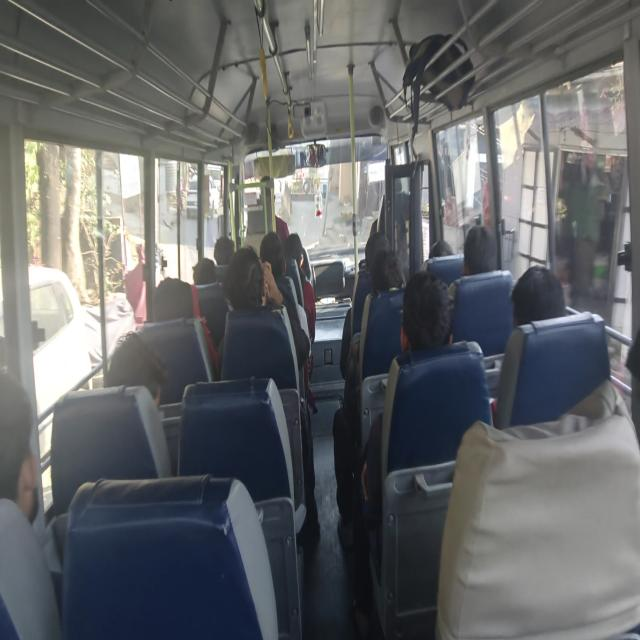person: (352, 270, 455, 634), (220, 245, 320, 540), (332, 245, 406, 548), (507, 264, 630, 426), (0, 370, 61, 638), (104, 330, 172, 476), (258, 231, 312, 403), (339, 231, 390, 379), (0, 370, 39, 524), (103, 330, 169, 408), (400, 270, 454, 352), (510, 264, 566, 329), (284, 232, 316, 343), (461, 224, 498, 275), (213, 235, 235, 265), (192, 258, 216, 285)
